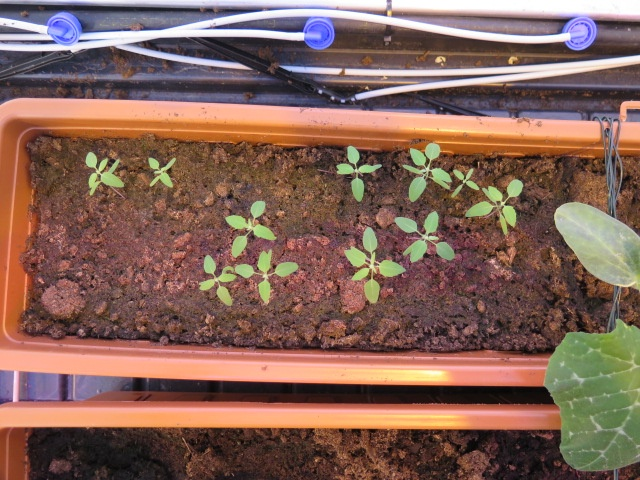weed: (340, 226, 410, 314), (381, 203, 459, 273), (461, 176, 527, 236), (332, 139, 386, 208), (236, 249, 299, 302), (404, 141, 455, 205), (221, 202, 284, 253), (194, 248, 238, 306), (82, 148, 127, 200), (144, 154, 178, 192), (451, 165, 478, 203)
